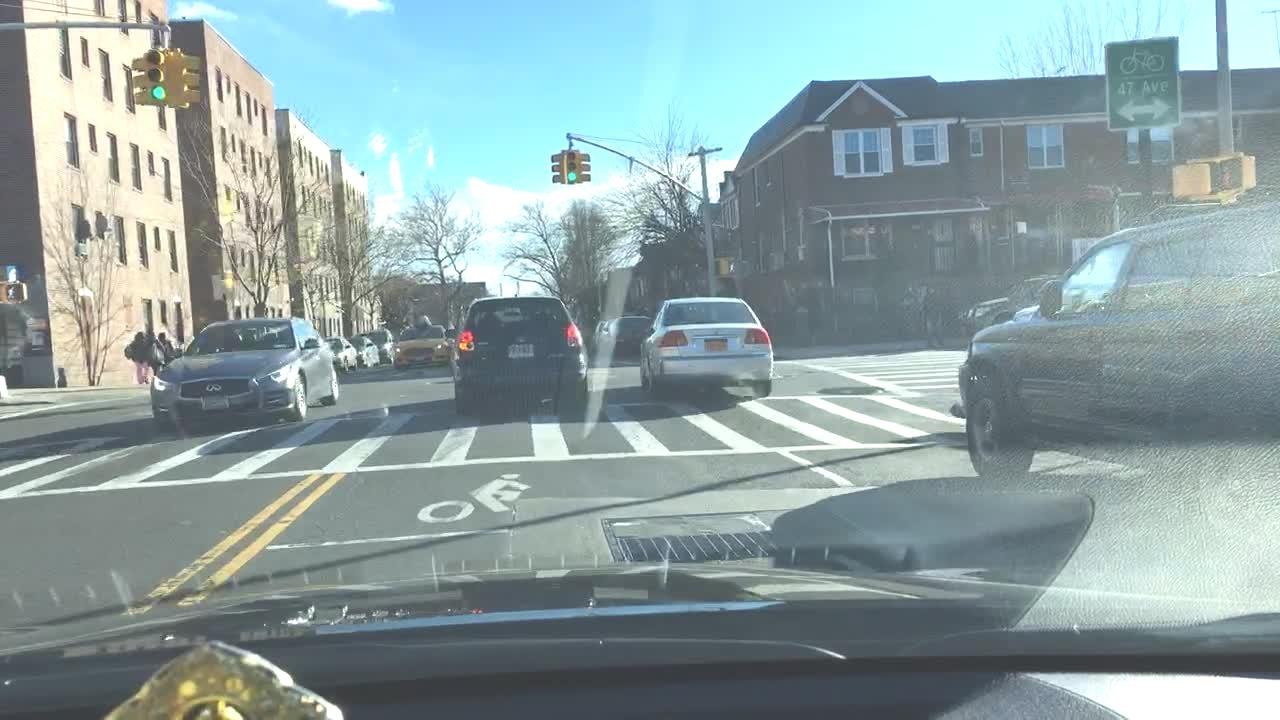Infiniti: (203, 380, 225, 395)
